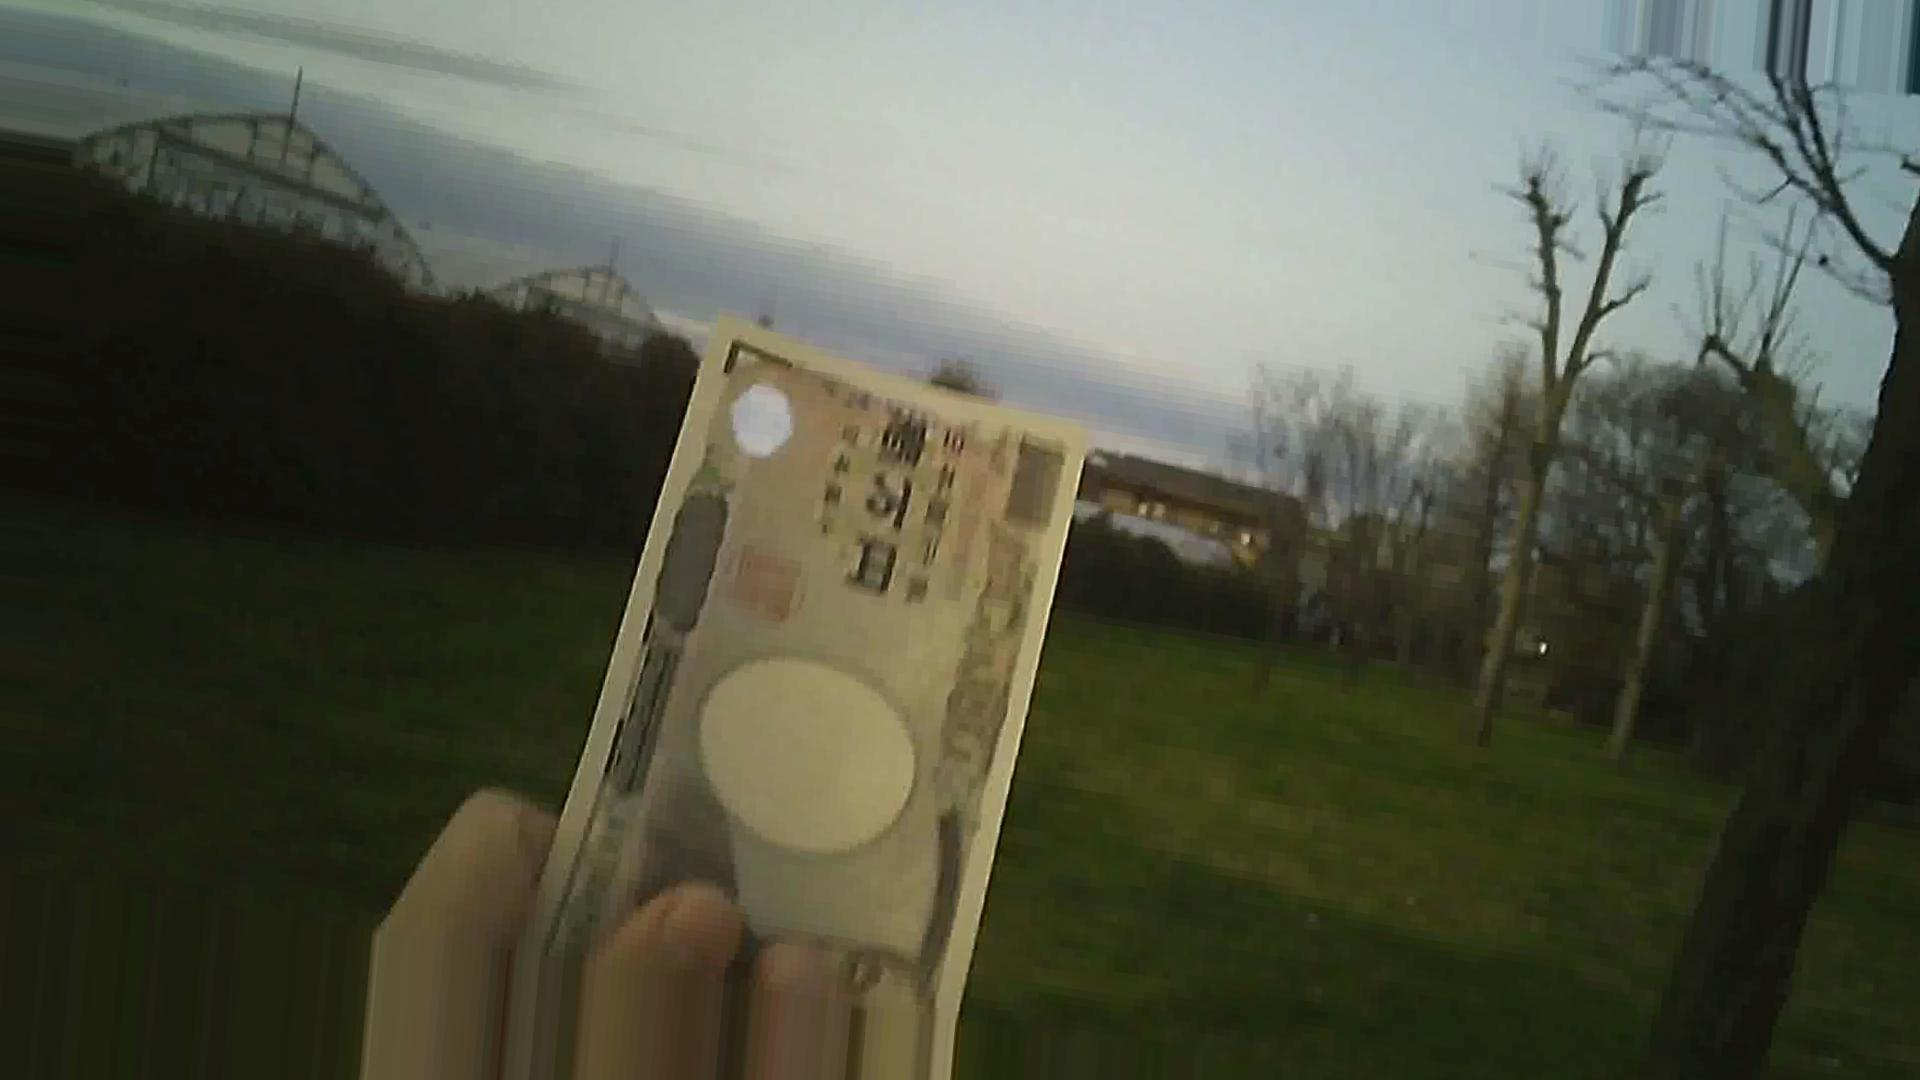10,000 Yen: (502, 285, 1091, 994)
